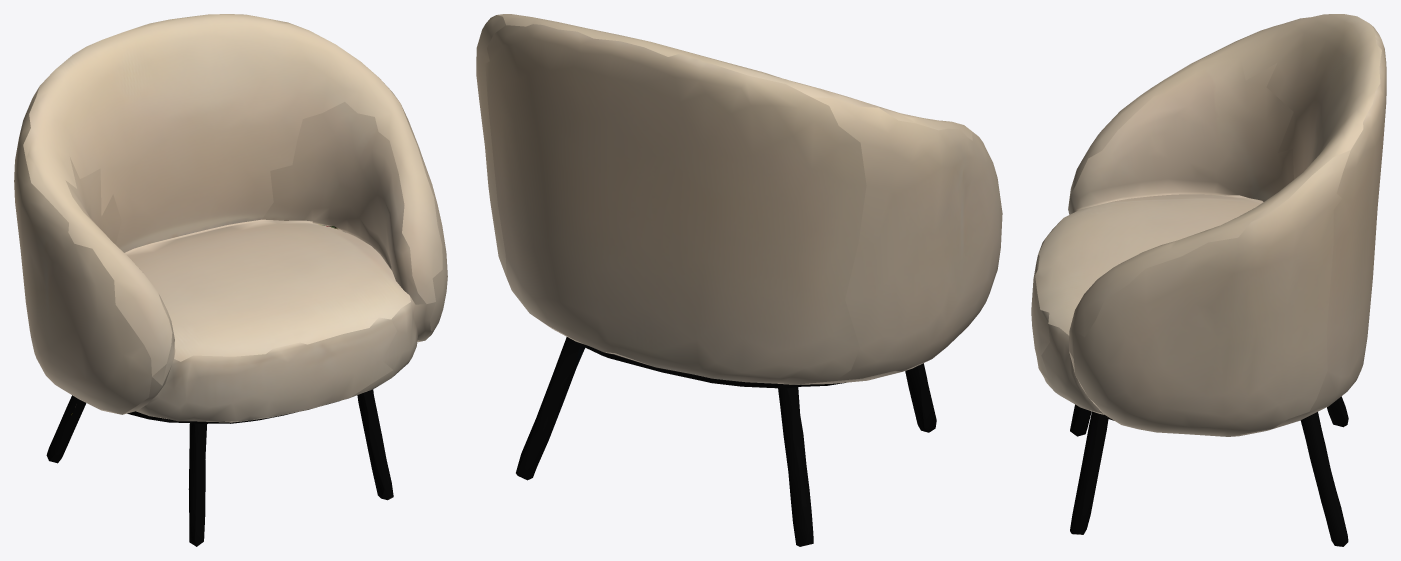
The model's file is Fauteuil2_3D_textured.glb.
The picture shows the model from 3 angles, left to right: view 1: azimuth 30°, elevation 25°; view 2: azimuth 150°, elevation 25°; view 3: azimuth 270°, elevation 25°; orthographic projection. The views are drawn at different scales.
Visible parts, largest first — view 1: temp_mesh.ply; view 2: temp_mesh.ply; view 3: temp_mesh.ply.
Part boxes in pixels (x1=…): temp_mesh.ply: x1=14, y1=14, x2=447, y2=546; temp_mesh.ply: x1=476, y1=14, x2=1002, y2=546; temp_mesh.ply: x1=1031, y1=14, x2=1386, y2=546.
Size of the model in its own units: 1.96 by 1.98 by 1.48.
Materials: 1 (1 with a texture image).
